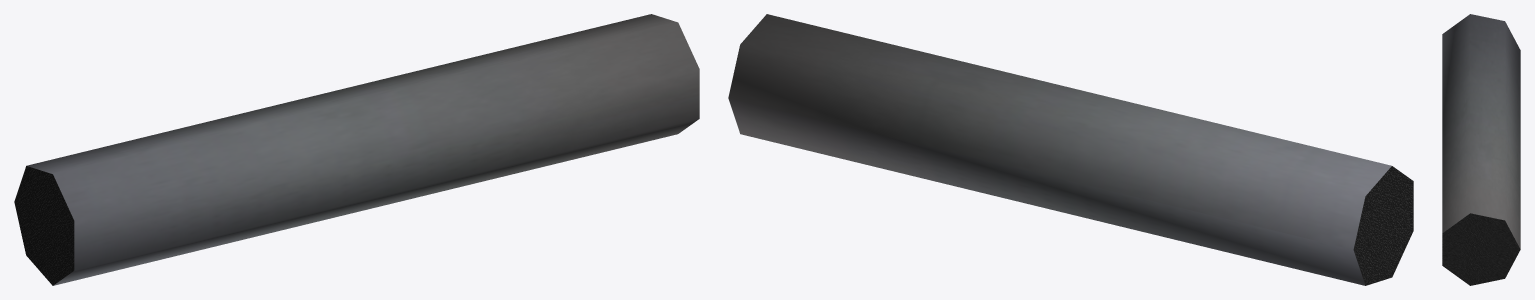
The model's file is Pipe_02.fbx.
The picture shows the model from 3 angles, left to right: view 1: azimuth 30°, elevation 25°; view 2: azimuth 150°, elevation 25°; view 3: azimuth 270°, elevation 25°; orthographic projection. The views are drawn at different scales.
Visible parts, largest first — view 1: Pipe_02; view 2: Pipe_02; view 3: Pipe_02.
Boxes of the visible parts, x1,y1,x2,y2 form: Pipe_02: (14,14,699,285); Pipe_02: (728,14,1413,285); Pipe_02: (1442,14,1520,285).
Size of the model in its own units: 28.94 by 4.97 by 4.81.
